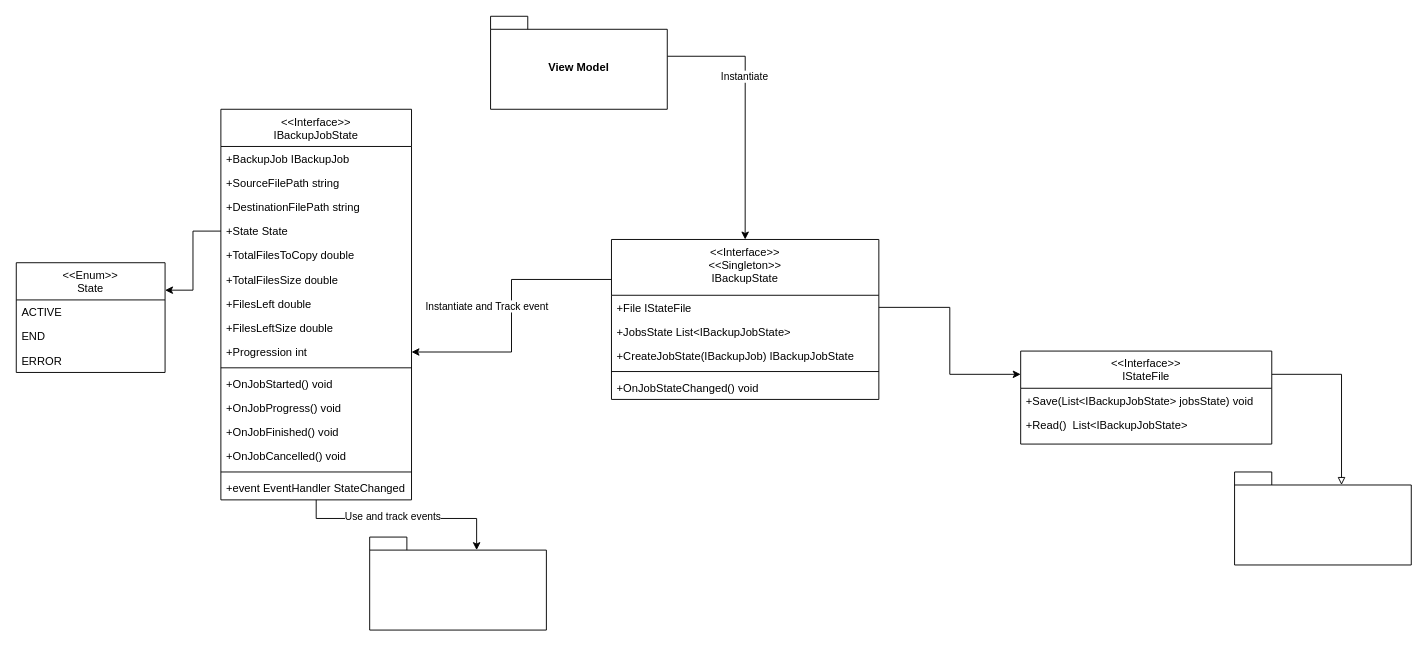
Some shapes in this 1428 by 646 pixel diagram are drawn without their labels. The shapes that lost their labels are listed below. From the top down, each one's centre as x and y in pixels, then its label:
At pixel 1322 518: "File Handler".
At pixel 457 583: "Job (Model)".
